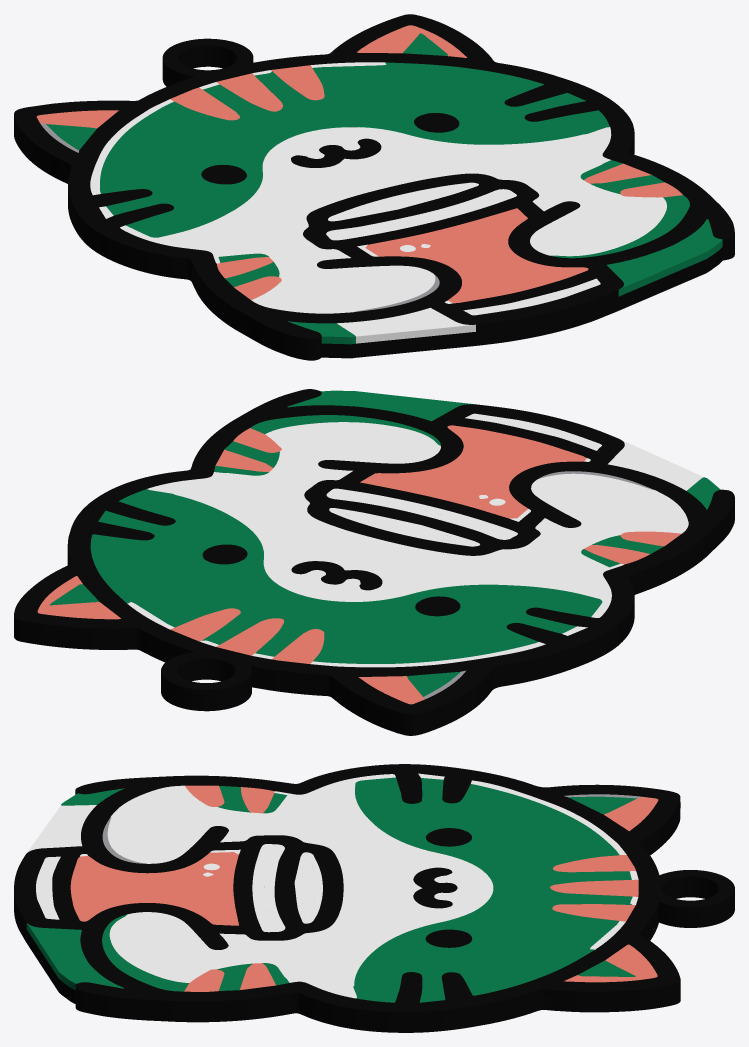
File: CoffeCat.glb
3 views of the same model, one above another, from view 1: azimuth 30°, elevation 25°; view 2: azimuth 150°, elevation 25°; view 3: azimuth 270°, elevation 25° (orthographic). The views are drawn at different scales.
Size of the model in its own units: 0.0463 by 0.0018 by 0.0569.
